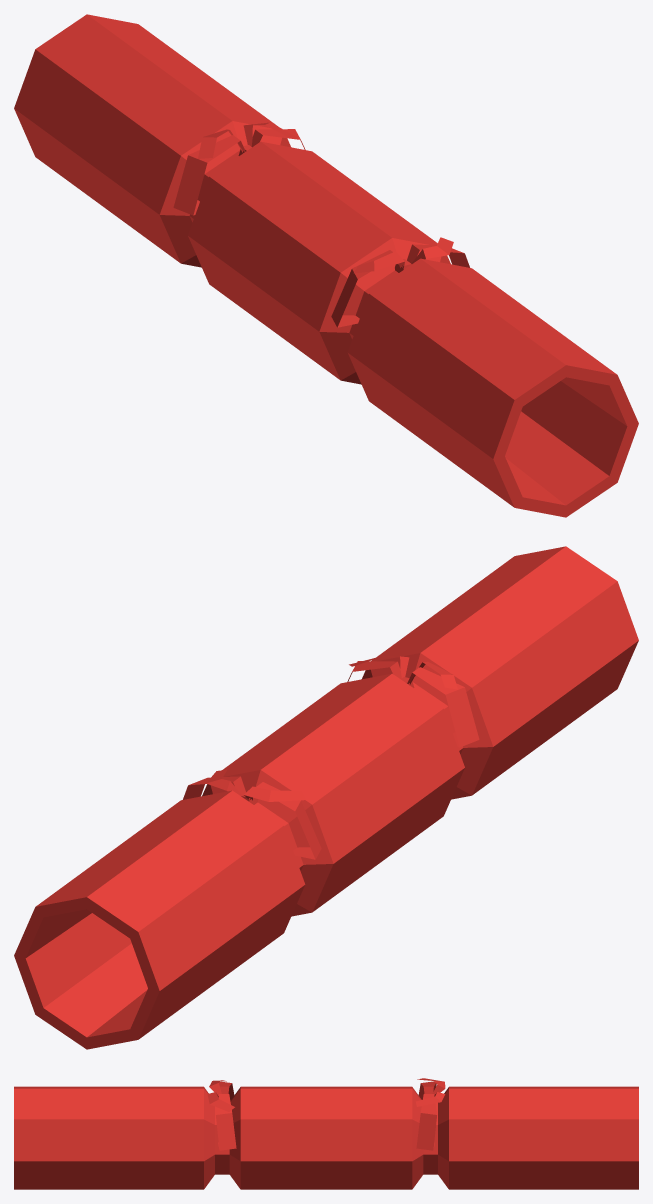
Rendered from SM_Cracker_A_Christmas.fbx.
3 views of the same model, one above another, from view 1: azimuth 30°, elevation 25°; view 2: azimuth 150°, elevation 25°; view 3: azimuth 270°, elevation 25° (orthographic). The views are drawn at different scales.
Visible parts, largest first — view 1: cracker-a-christmas; view 2: cracker-a-christmas; view 3: cracker-a-christmas.
Part boxes in pixels (box(x1,y1,x2,y2)): cracker-a-christmas: box(14, 14, 638, 517); cracker-a-christmas: box(14, 546, 638, 1049); cracker-a-christmas: box(14, 1078, 638, 1189).
Bounding box in the file's own units: 0.0495 × 0.0502 × 0.2817.
